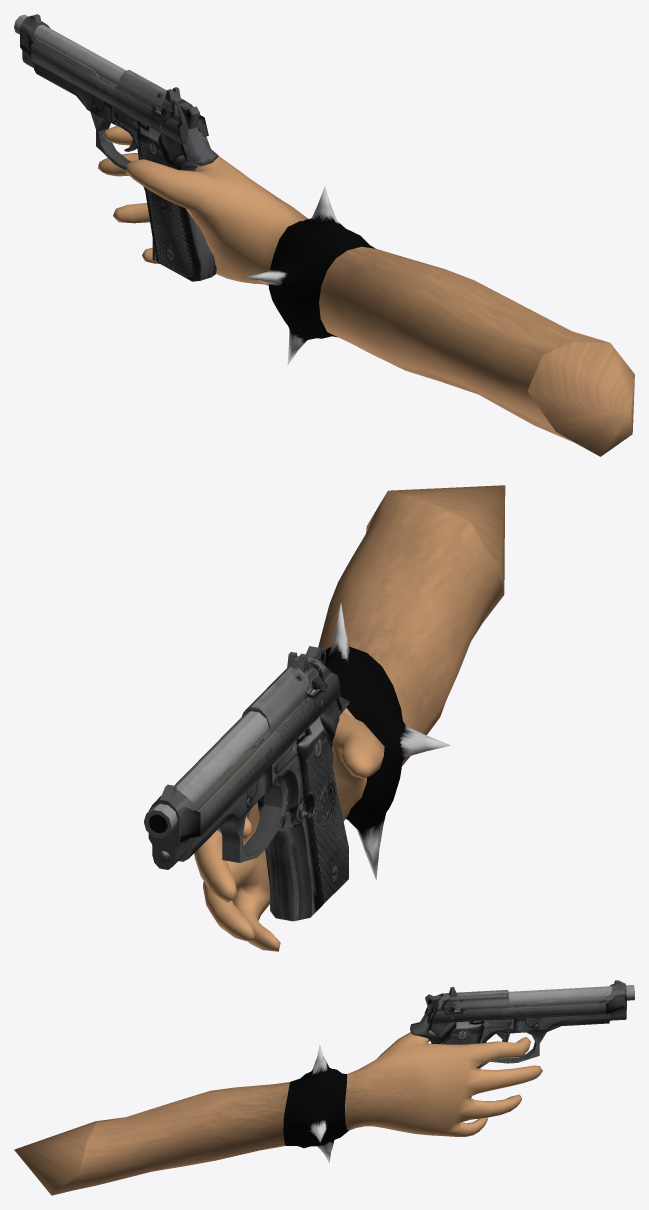
File: gunhandEMBED.fbx
3 views of the same model, one above another, from view 1: azimuth 30°, elevation 25°; view 2: azimuth 150°, elevation 25°; view 3: azimuth 270°, elevation 25° (orthographic). The views are drawn at different scales.
Parts seen in each view (by area): view 1: charHampus, BerettaTexturedUV2:polySurface3, BerettaTexturedUV2:polySurface5; view 2: charHampus, BerettaTexturedUV2:polySurface3, BerettaTexturedUV2:polySurface5; view 3: charHampus, BerettaTexturedUV2:polySurface3, BerettaTexturedUV2:polySurface5.
Part boxes in pixels (<box>): charHampus: <box>98,126,634,456</box>; BerettaTexturedUV2:polySurface3: <box>14,14,218,281</box>; BerettaTexturedUV2:polySurface5: <box>20,14,208,144</box>; charHampus: <box>194,485,505,951</box>; BerettaTexturedUV2:polySurface3: <box>144,646,349,921</box>; BerettaTexturedUV2:polySurface5: <box>148,652,341,869</box>; charHampus: <box>14,1032,542,1195</box>; BerettaTexturedUV2:polySurface3: <box>410,985,634,1097</box>; BerettaTexturedUV2:polySurface5: <box>424,980,626,1023</box>.
Size of the model in its own units: 10.52 by 8.79 by 30.19.
2 materials, 2 textured.
